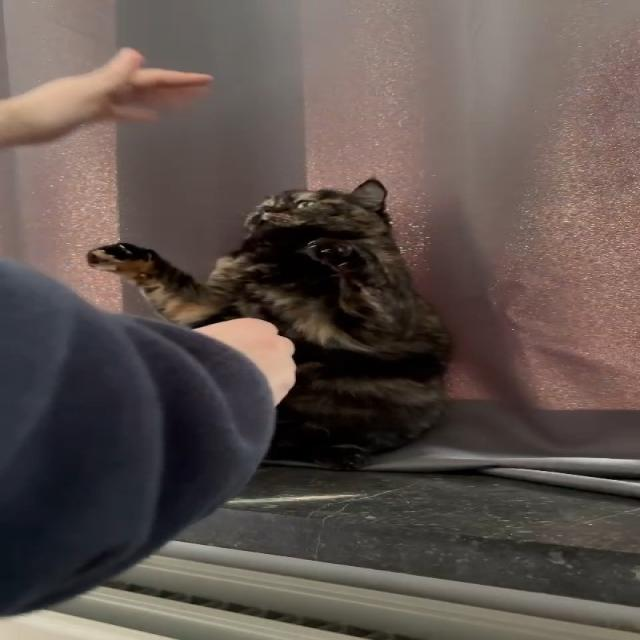authorized: (84, 177, 455, 471)
